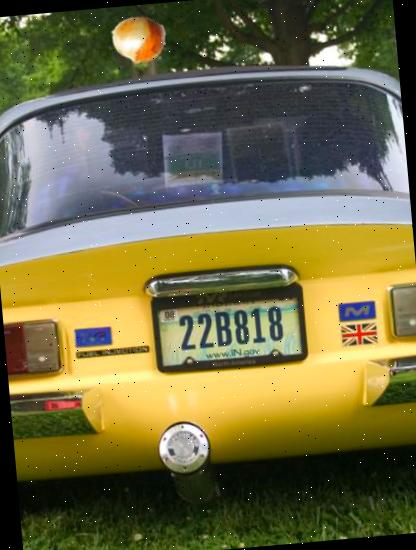Onion: (108, 10, 168, 70)
